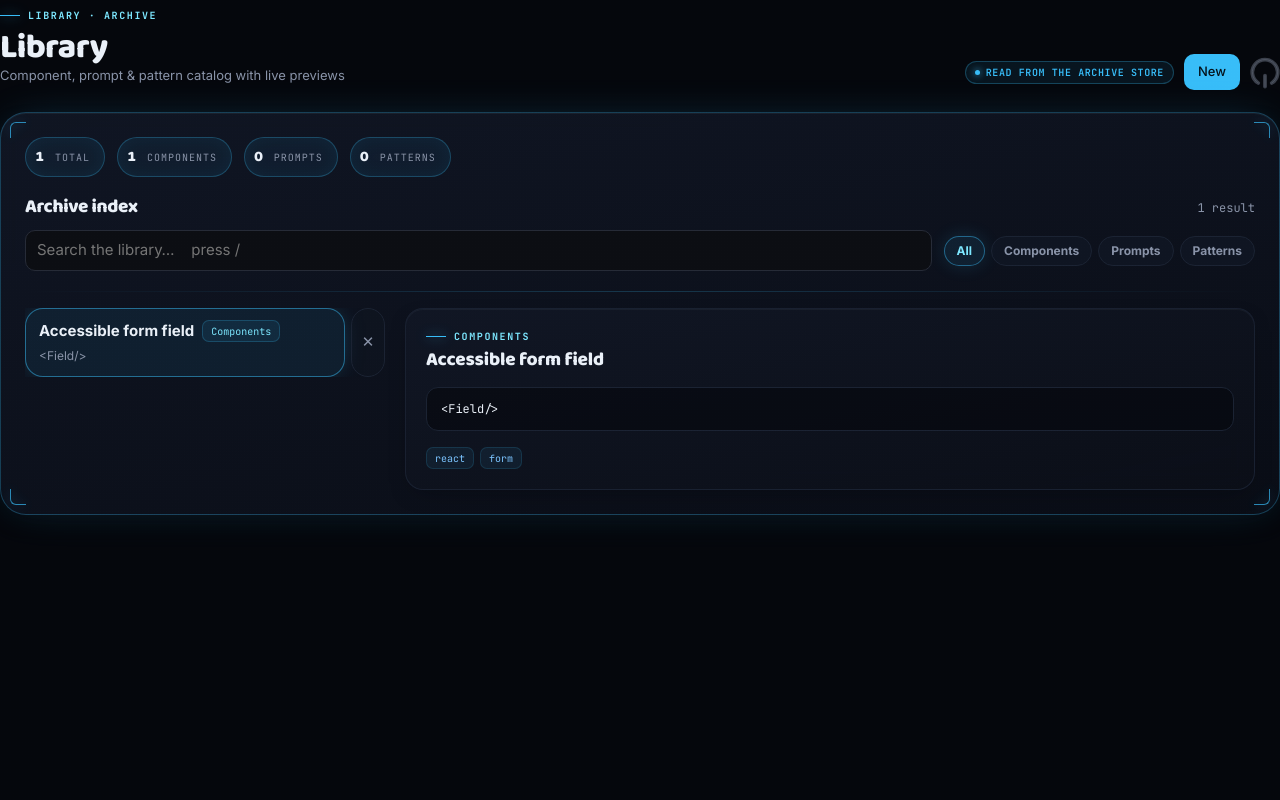
Test: Library — a REFUSED delete is surfaced, never swallowed › keeps the item, shows the refusal with its reason
The width and height of the screenshot is (1280, 800).
Check: the text "Accessible form field" is shown, box [39,320,194,342]
Click the button "✕" at (368, 343), box [351,308,385,377]
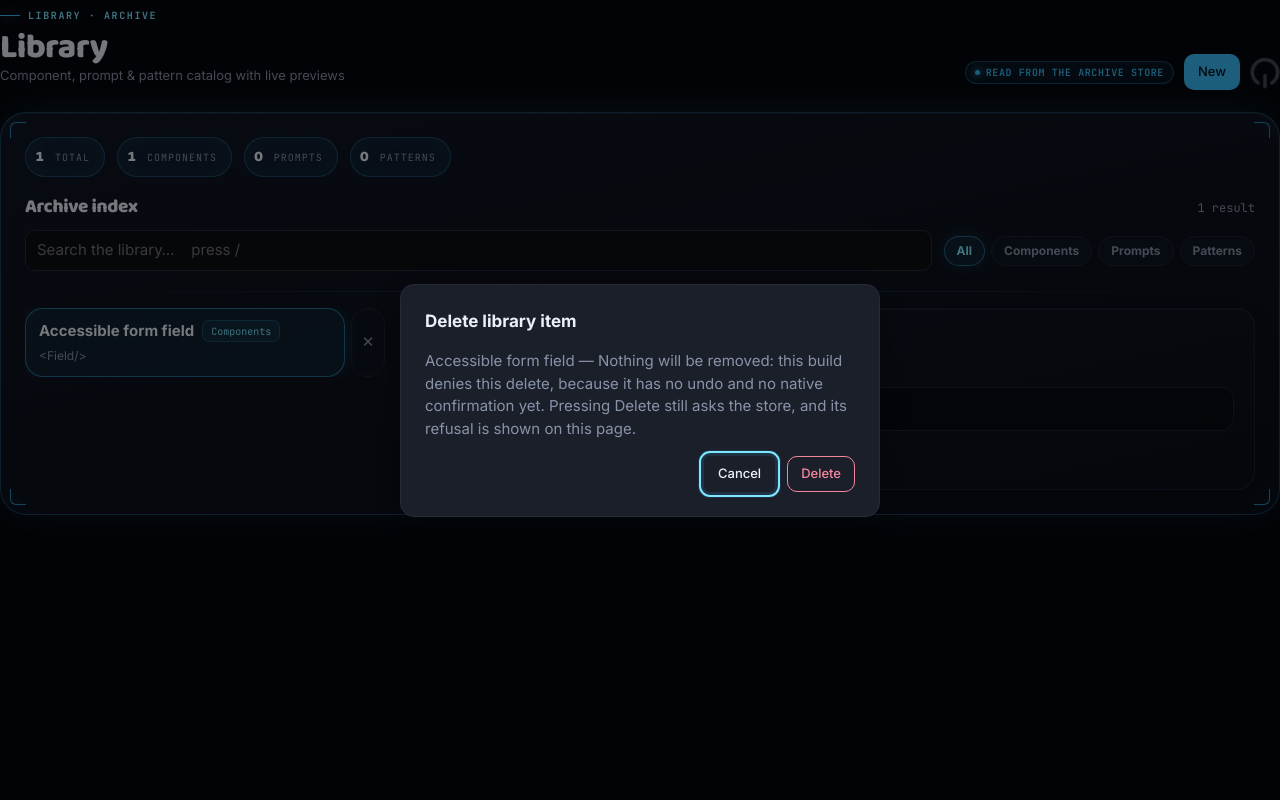
Check: the dialog does not show "can.t be undone", box [400,284,880,516]
Check: the dialog shows "Nothing will be removed", box [425,351,847,438]
Check: the button "Delete" is shown
Click the button "Delete" at (821, 474), box [787,456,855,492]
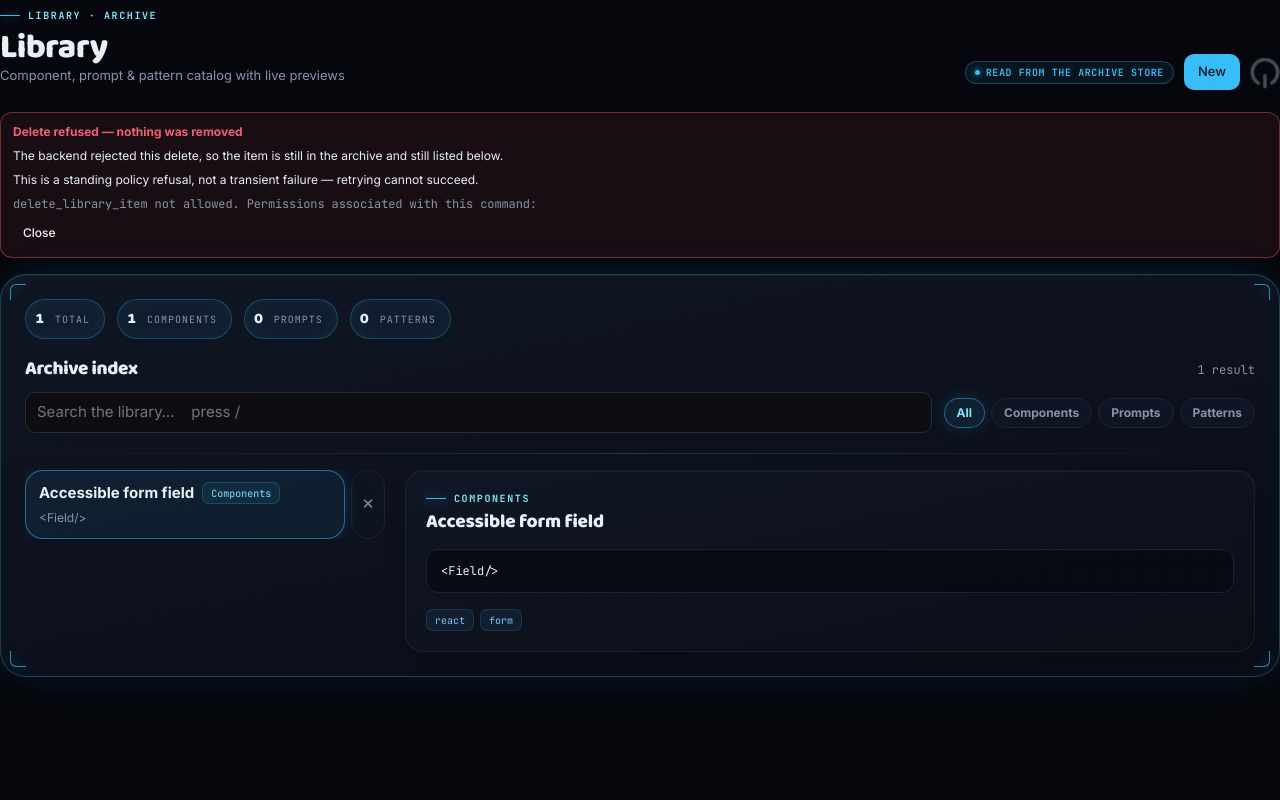
Check: the message that starts with "Delete refused — nothing was removed" is shown, box [13,124,243,139]
Check: the message that starts with "Delete refused — nothing was removed" shows "still in the archive", box [13,148,503,163]
Check: the message that starts with "Delete refused — nothing was removed" shows "delete_library_item not allowed", box [13,196,537,212]
